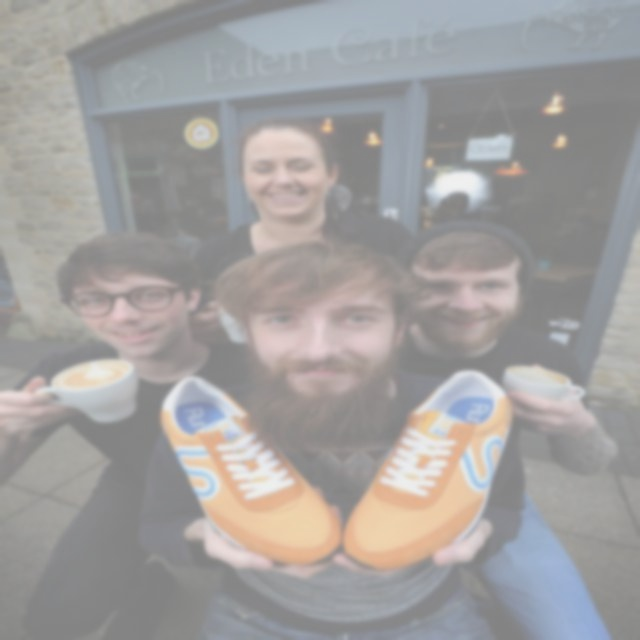pessoa: (128, 232, 531, 640), (388, 223, 616, 640), (179, 116, 430, 312), (430, 144, 618, 251)
